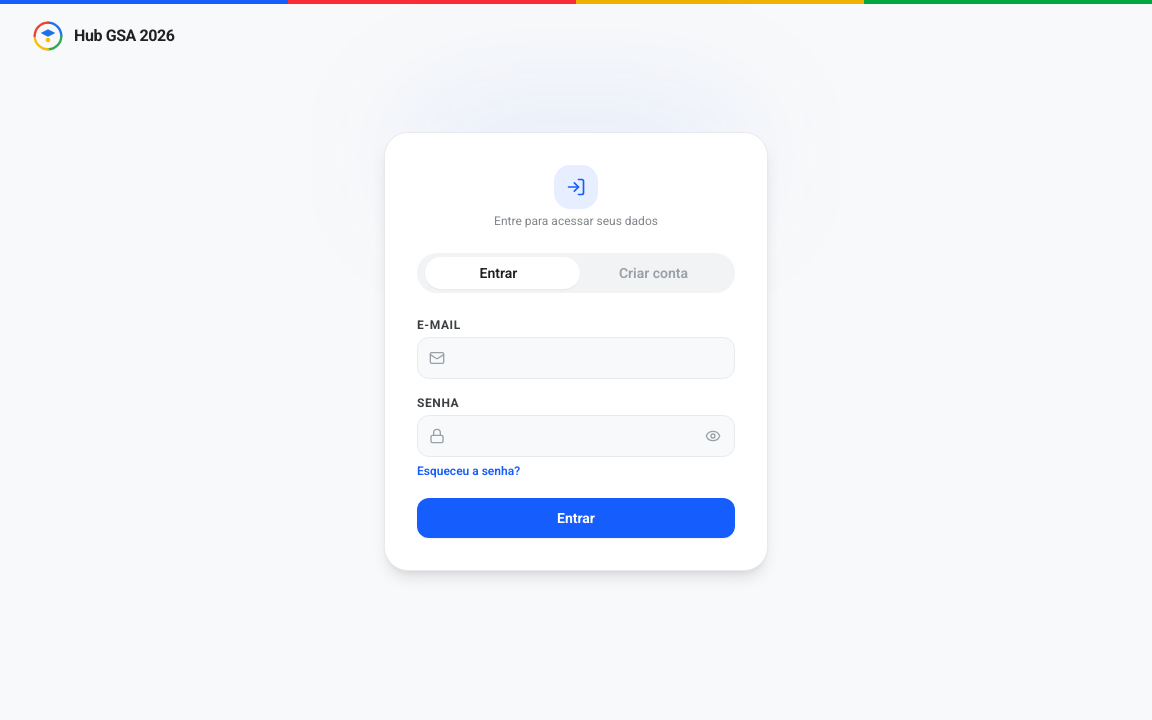
Test: AuthScreen › shows an error message when sign in fails
In the field labelled "E-mail": (576, 358) [417,337,735,379], type "ana@example.com"
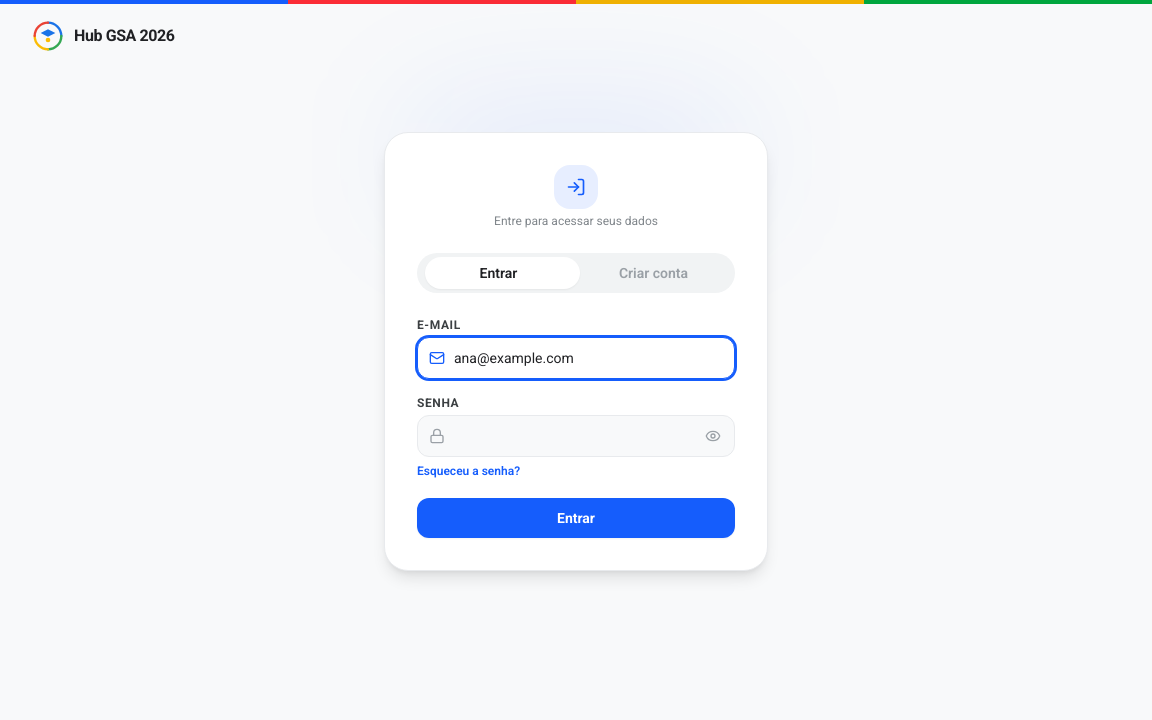
In the password field labelled "Senha": (576, 436) [417,415,735,457], type "senha123"
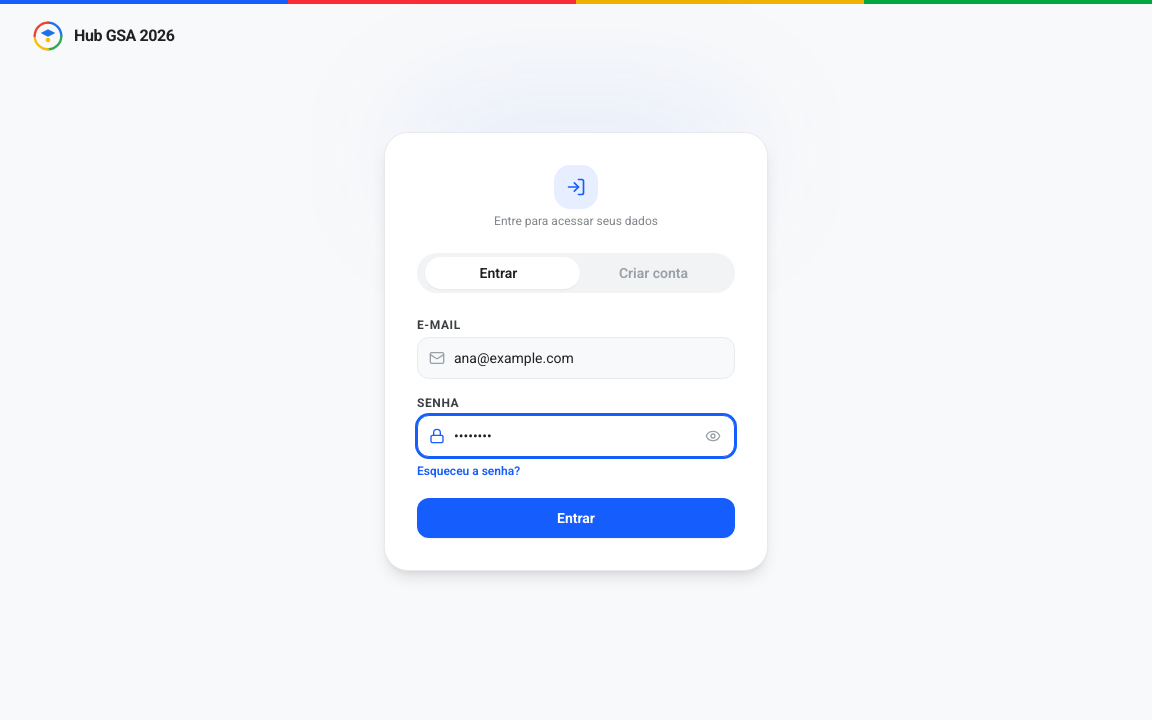
Click the submit button: (576, 518) [417,498,735,538]
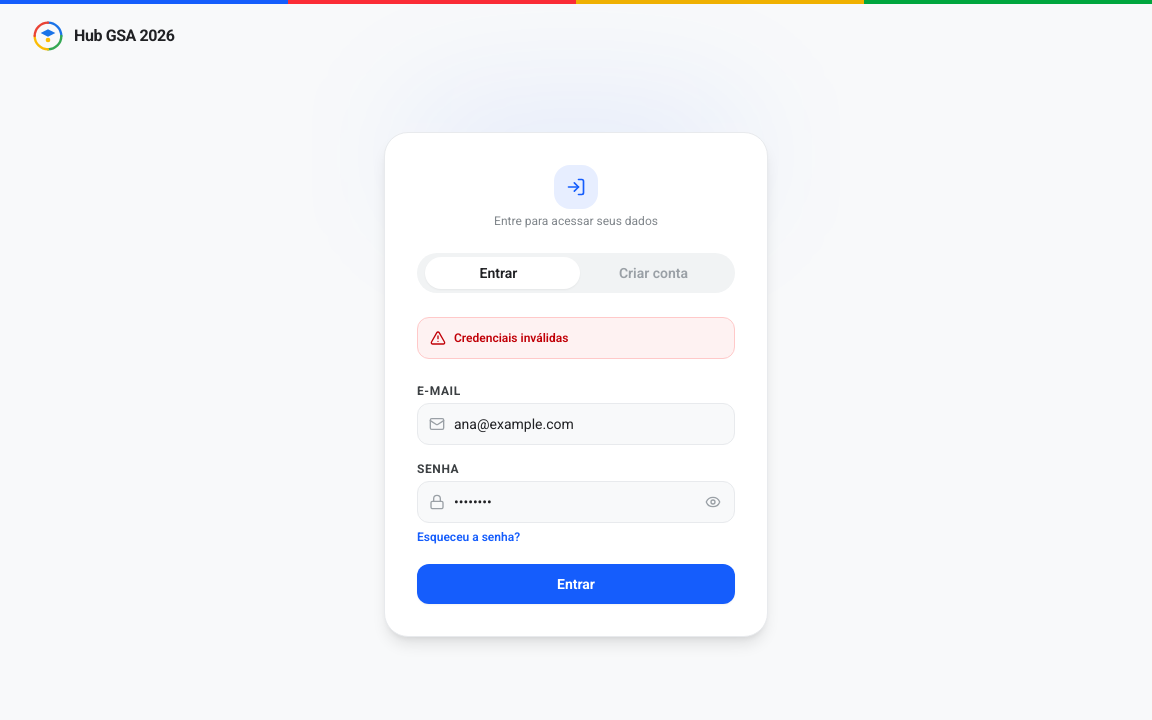
Expected: the text "Credenciais inválidas" is shown, [454,330,568,346]
